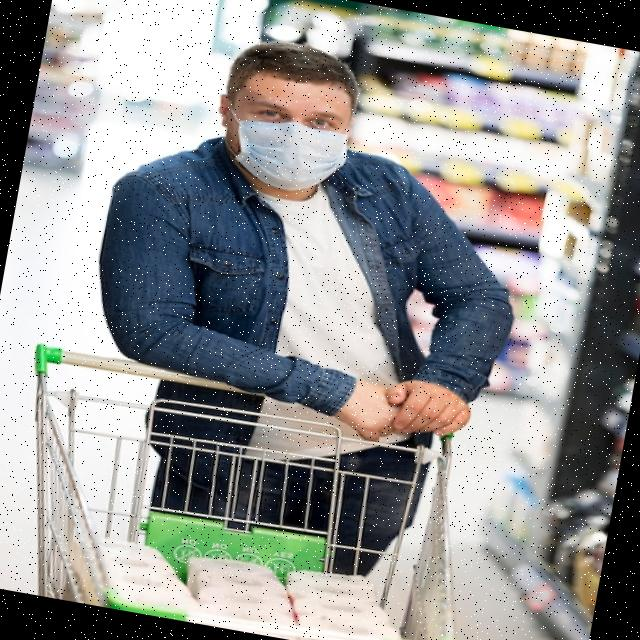Person: (50, 14, 556, 600)
